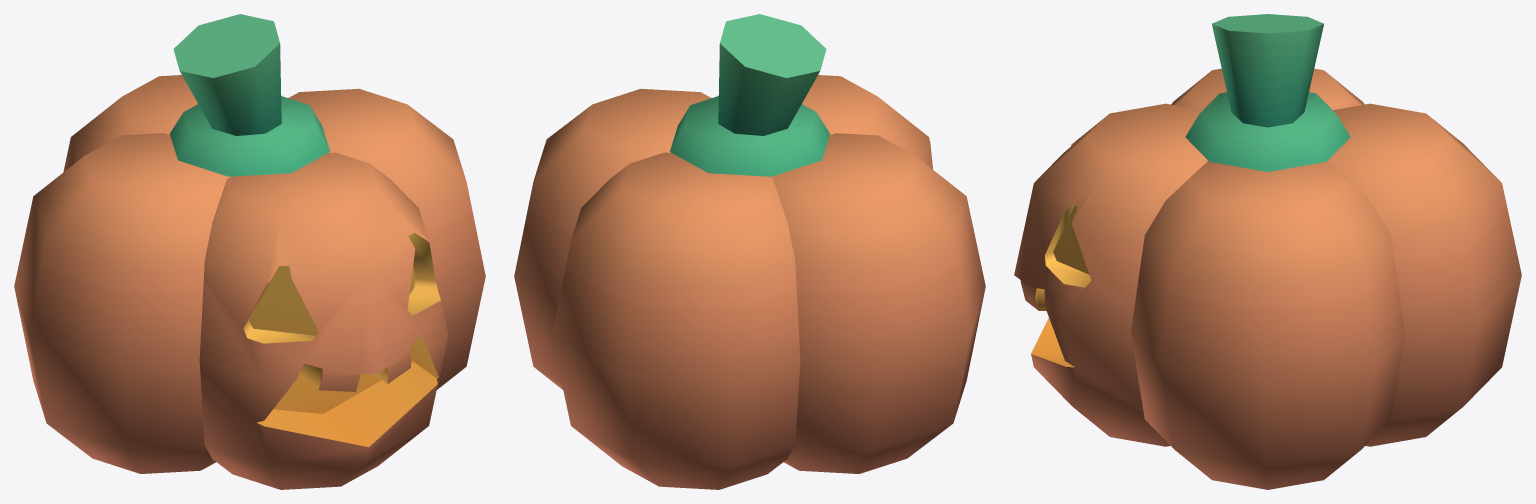
File: grave.pumpkin_carved.glb
3 renders of one model, left to right at view 1: azimuth 30°, elevation 25°; view 2: azimuth 150°, elevation 25°; view 3: azimuth 270°, elevation 25°, orthographic.
Parts seen in each view (by area): view 1: pumpkin-carved; view 2: pumpkin-carved; view 3: pumpkin-carved.
Boxes of the visible parts, x1,y1,x2,y2 form: pumpkin-carved: (14,14,485,489); pumpkin-carved: (514,14,985,489); pumpkin-carved: (1014,14,1521,489).
Bounding box in the file's own units: 0.4054 × 0.3449 × 0.4054.
1 material, 1 textured.
